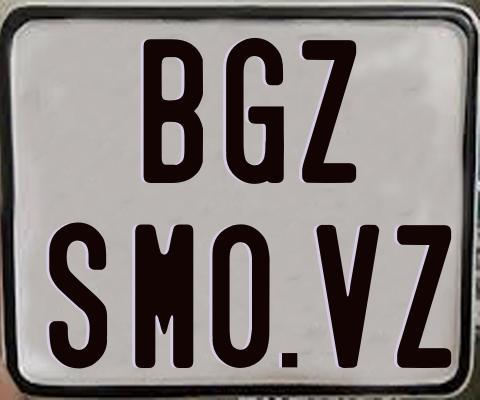0: (210, 222, 270, 372)
B: (144, 38, 205, 185)
G: (225, 38, 285, 184)
M: (135, 222, 196, 370)
S: (46, 221, 109, 374)
V: (315, 222, 380, 369)
Z: (301, 39, 357, 185), (394, 222, 448, 371)
